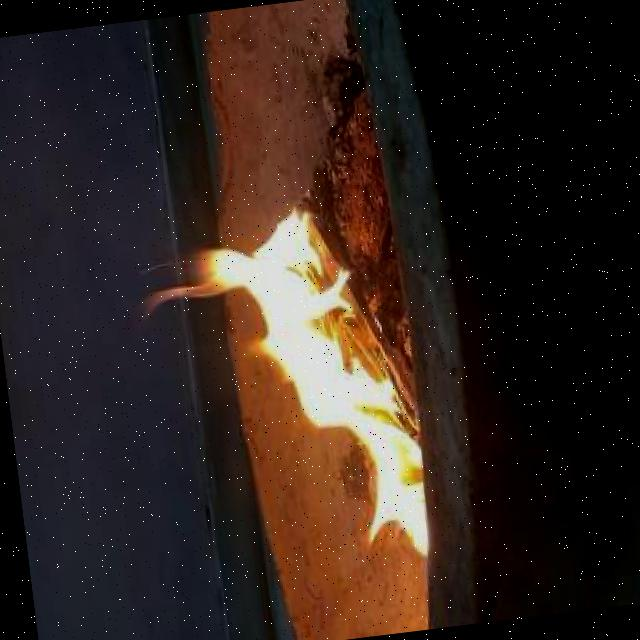fire: (150, 217, 428, 567)
